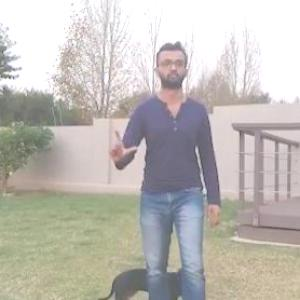land_hand: (106, 123, 139, 164)
